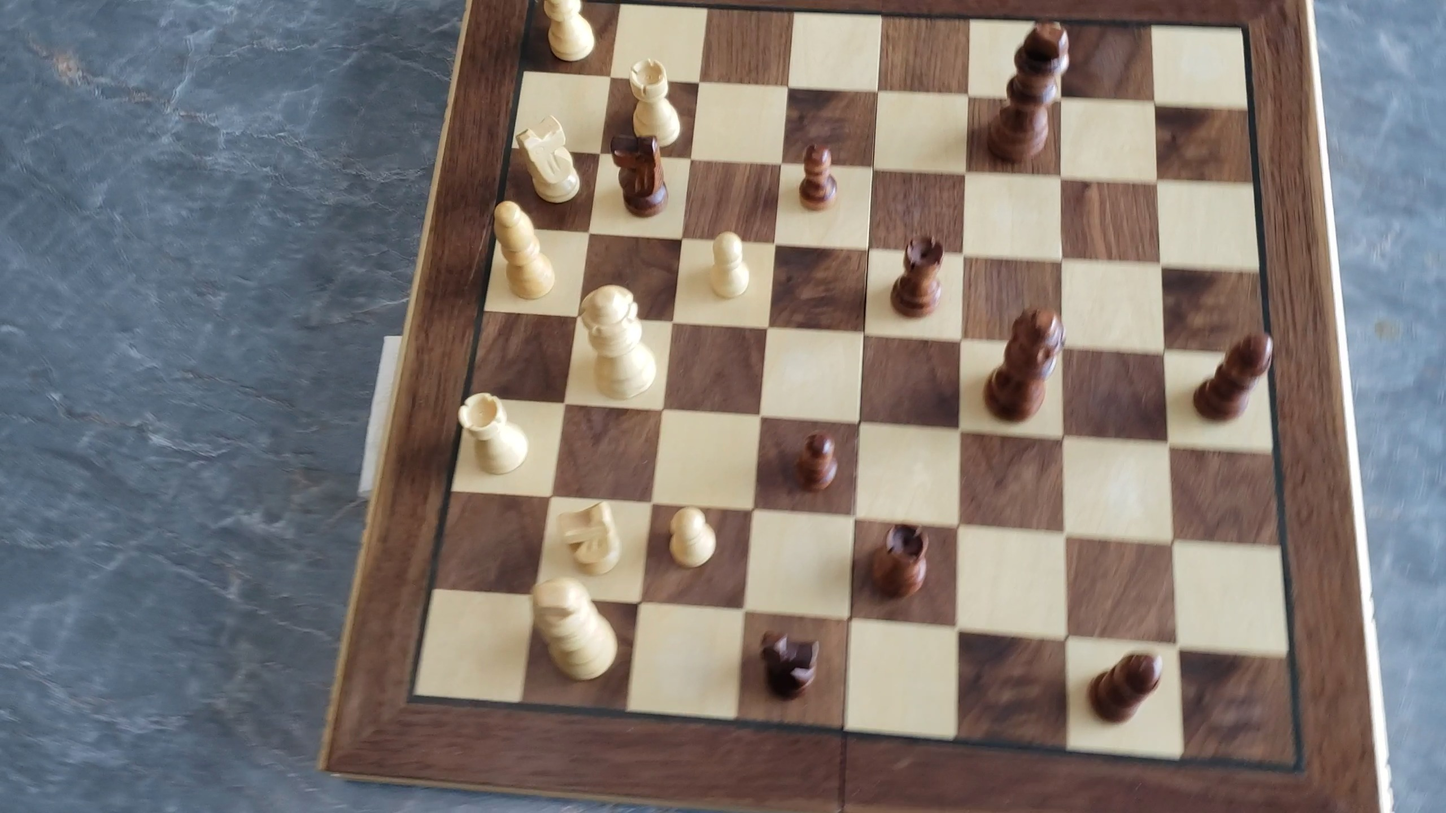black-bishop: (1190, 323, 1276, 417), (1084, 646, 1169, 725)
black-king: (985, 16, 1073, 165)
black-knight: (744, 621, 826, 708), (609, 131, 672, 218)
black-pawn: (795, 138, 840, 213), (794, 428, 842, 494)
black-queen: (968, 308, 1090, 428)
black-rook: (868, 521, 933, 602), (889, 232, 947, 320)
white-bishop: (486, 197, 560, 304), (537, 0, 603, 68)
white-king: (517, 571, 628, 695)
white-knight: (513, 111, 585, 207), (556, 497, 626, 578)
white-pawn: (702, 225, 756, 305), (664, 502, 720, 572)
white-queen: (576, 282, 661, 404)
white-rook: (455, 388, 533, 478), (626, 55, 685, 151)
